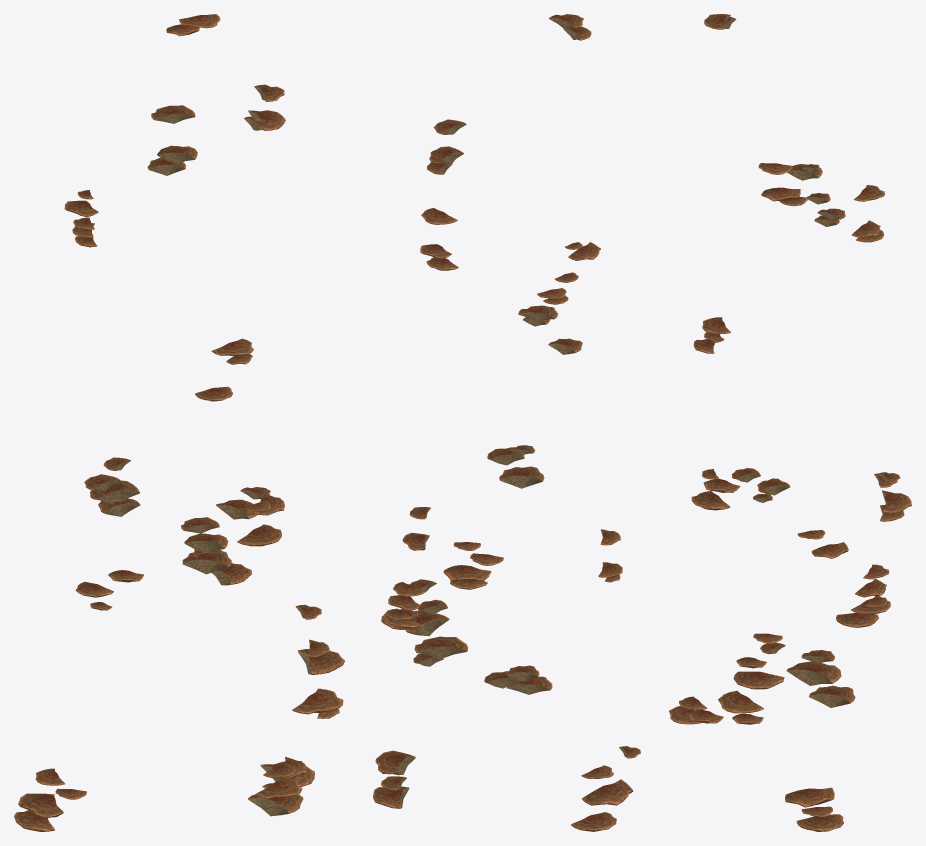
Rendered from Redwood1_Mushrooms.fbx.
The picture shows the model from 3 angles, left to right: view 1: azimuth 30°, elevation 25°; view 2: azimuth 150°, elevation 25°; view 3: azimuth 270°, elevation 25°; orthographic projection. The views are drawn at different scales.
Parts seen in each view (by area): view 1: polySurface1213; view 2: polySurface1213; view 3: polySurface1213.
Part boxes in pixels (x1,y1,x2,y2): polySurface1213: (14, 14, 344, 831); polySurface1213: (373, 14, 640, 831); polySurface1213: (669, 14, 911, 831).
Size of the model in its own units: 99.6 by 293 by 85.29.
